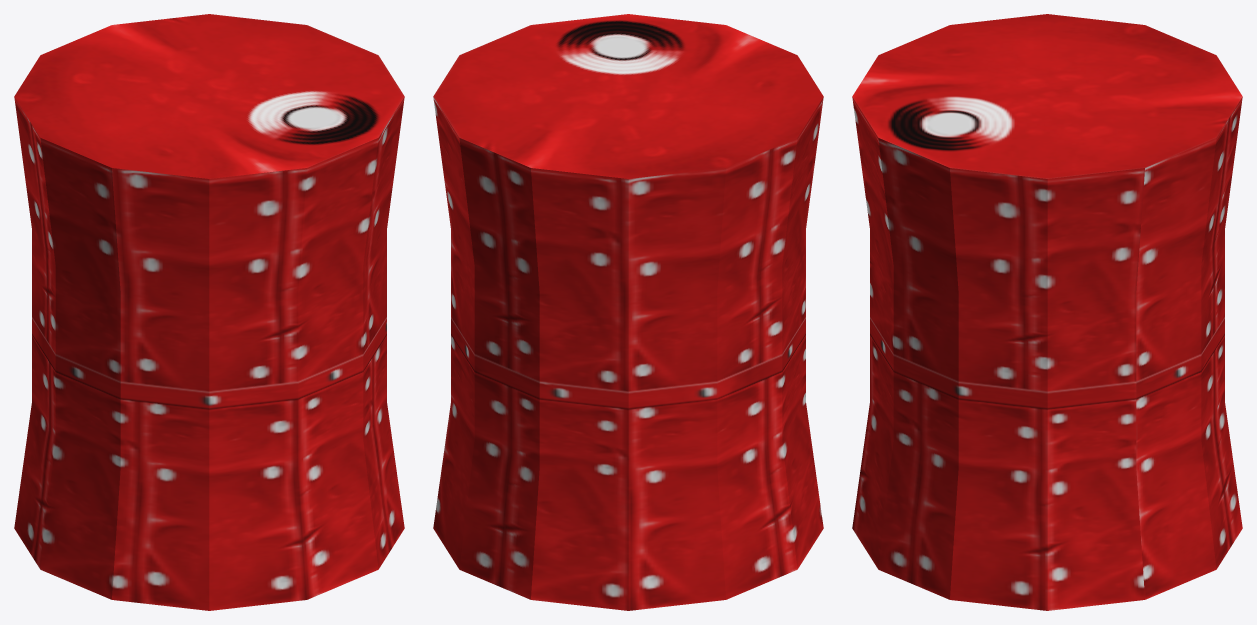
File: Barrel_Metal_1A.fbx
The picture shows the model from 3 angles, left to right: view 1: azimuth 30°, elevation 25°; view 2: azimuth 150°, elevation 25°; view 3: azimuth 270°, elevation 25°; orthographic projection.
Visible parts, largest first — view 1: Barrel_Metal_1A; view 2: Barrel_Metal_1A; view 3: Barrel_Metal_1A.
Part boxes in pixels (x1,y1,x2,y2): Barrel_Metal_1A: (14, 14, 404, 610); Barrel_Metal_1A: (433, 14, 823, 610); Barrel_Metal_1A: (852, 14, 1242, 610).
Bounding box in the file's own units: 1.99 × 2.42 × 1.99.
Materials: 1 (1 with a texture image).
